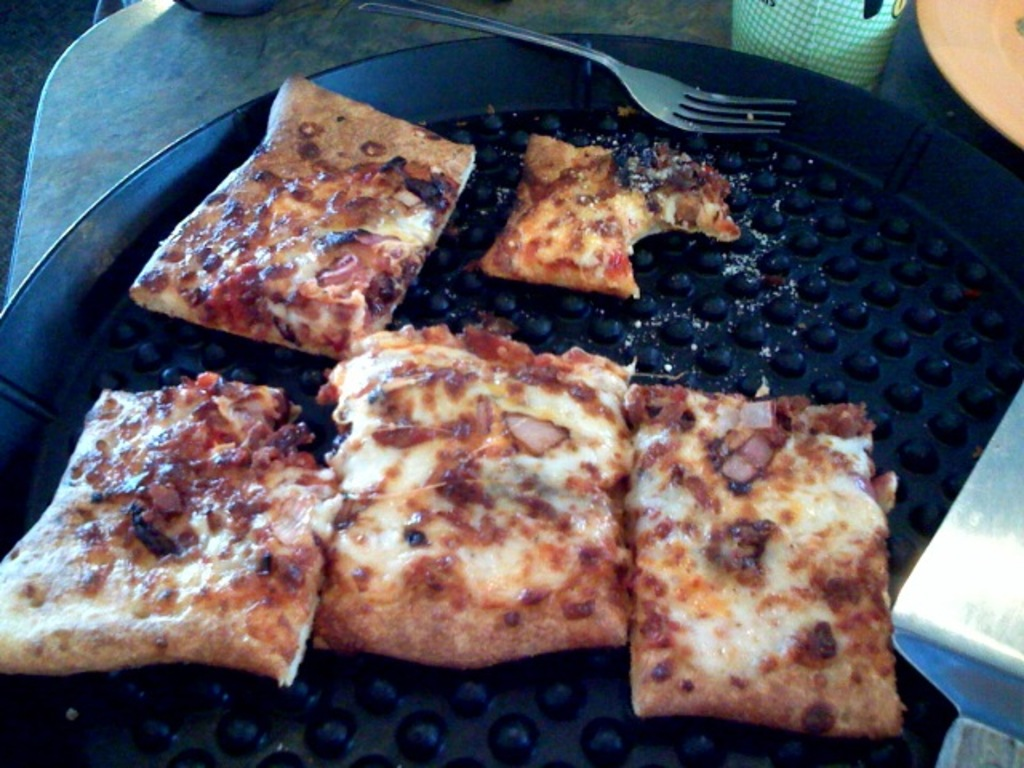Pizza: (310, 320, 632, 668), (0, 369, 339, 689), (614, 403, 905, 768), (131, 70, 475, 355), (480, 131, 743, 296)
